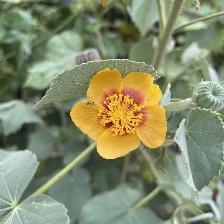indian mallow: (71, 68, 169, 161)
